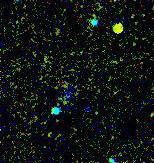star: (103, 12, 133, 42)
